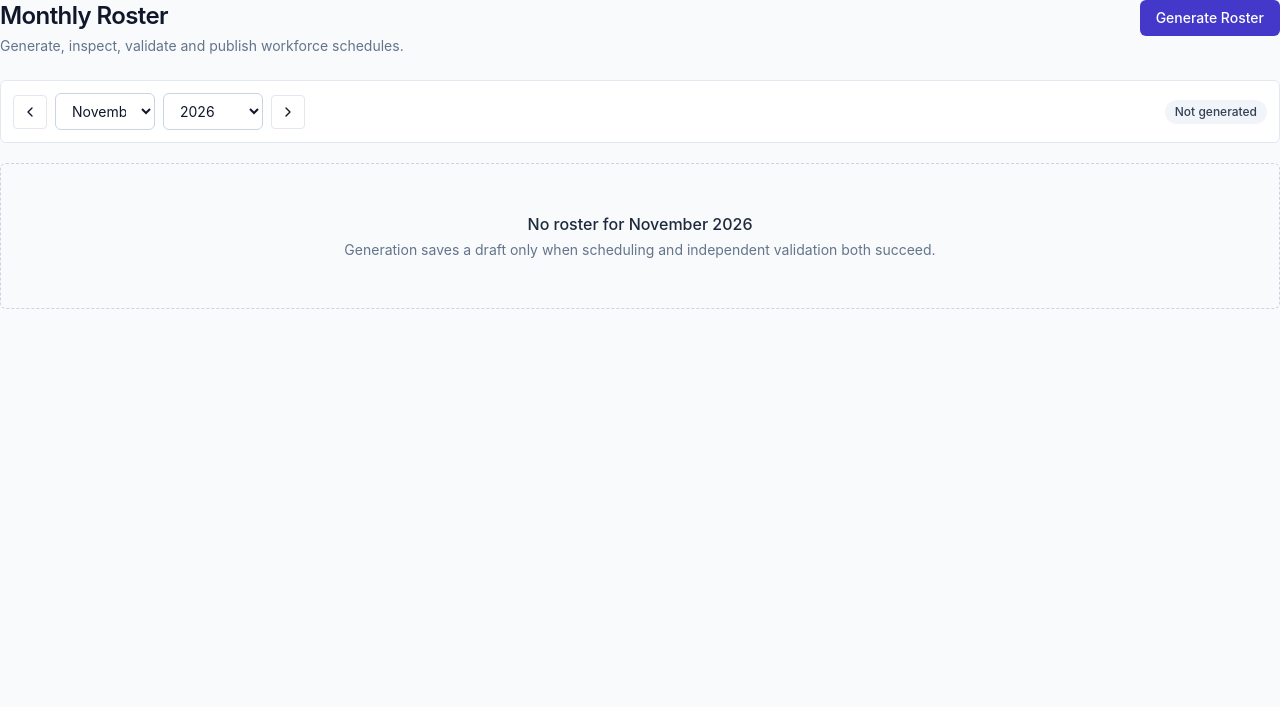
Test: Task 9 monthly roster › confirms safe regeneration and keeps the previous roster visible when generation fails
Select "December" in the dropdown named "Roster month": (105, 112) [55, 93, 155, 130]
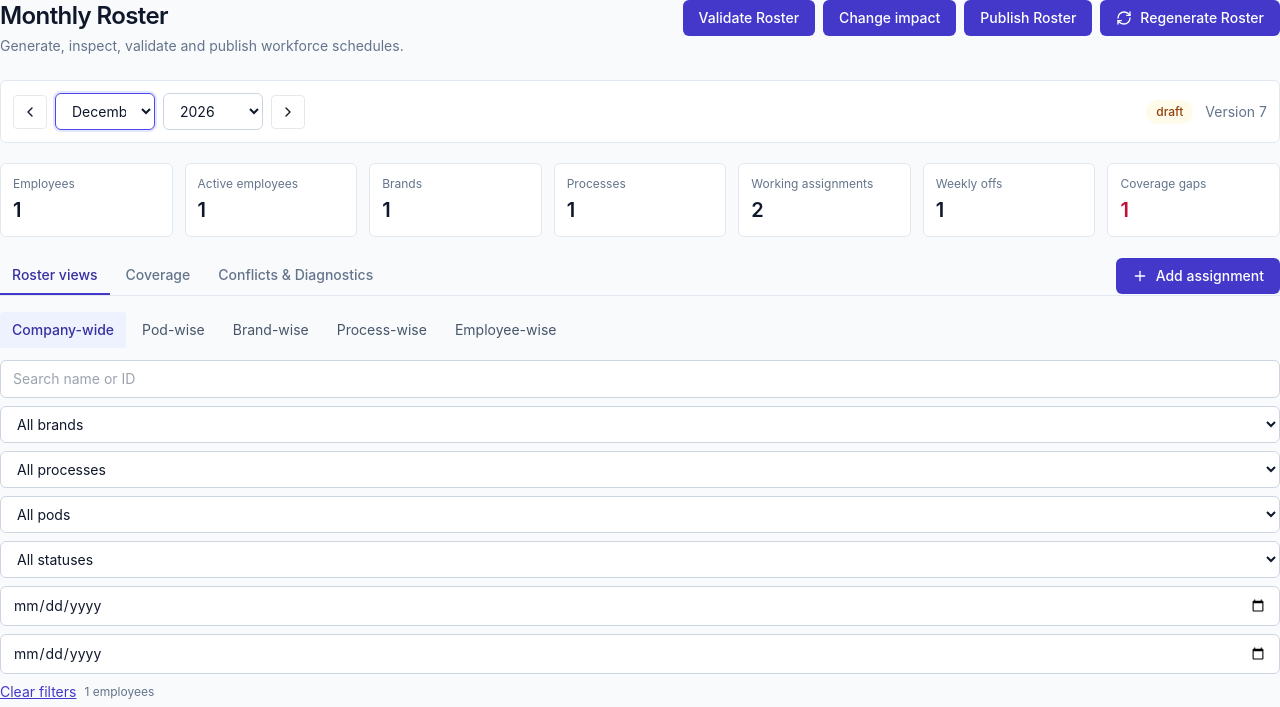
Click the button "Regenerate Roster": (1190, 18) [1100, 0, 1279, 36]
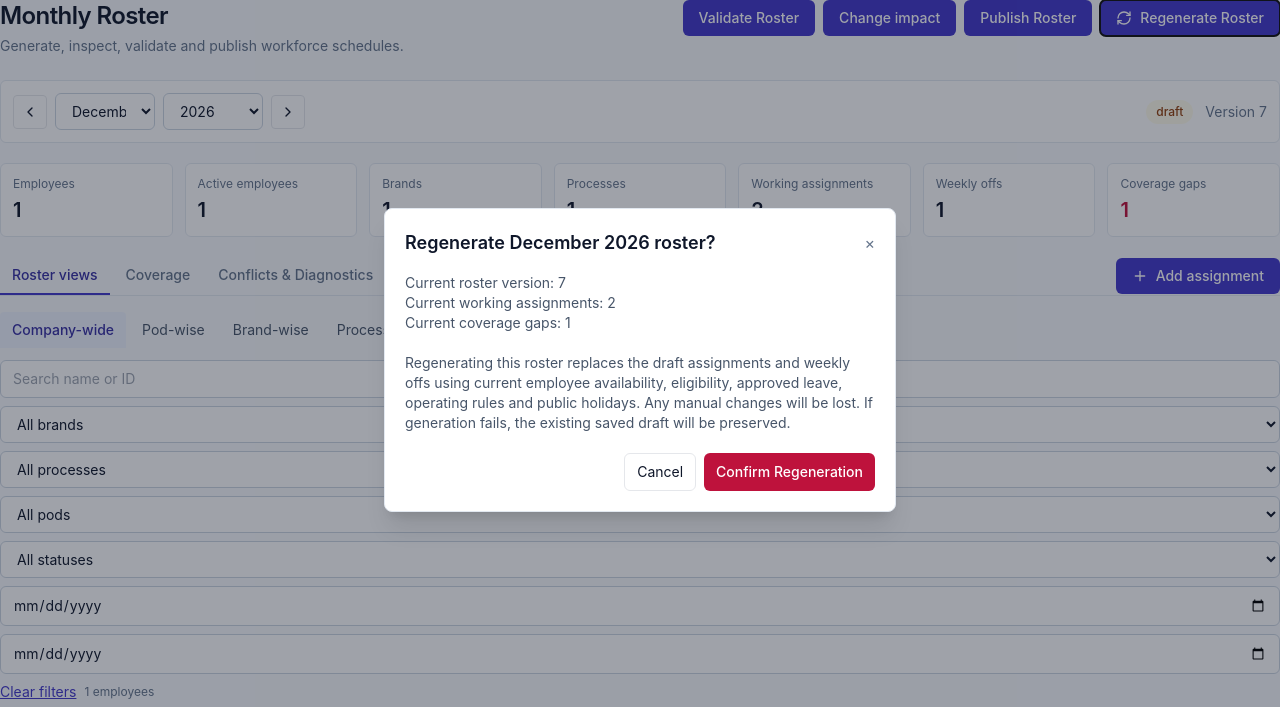
Now the dialog "Regenerate December 2026 roster?" is shown, box [384, 208, 896, 512]
Now the text "Current roster version: 7" is shown, box [405, 274, 873, 431]
Click the button "Cancel": (660, 472) [624, 453, 696, 491]
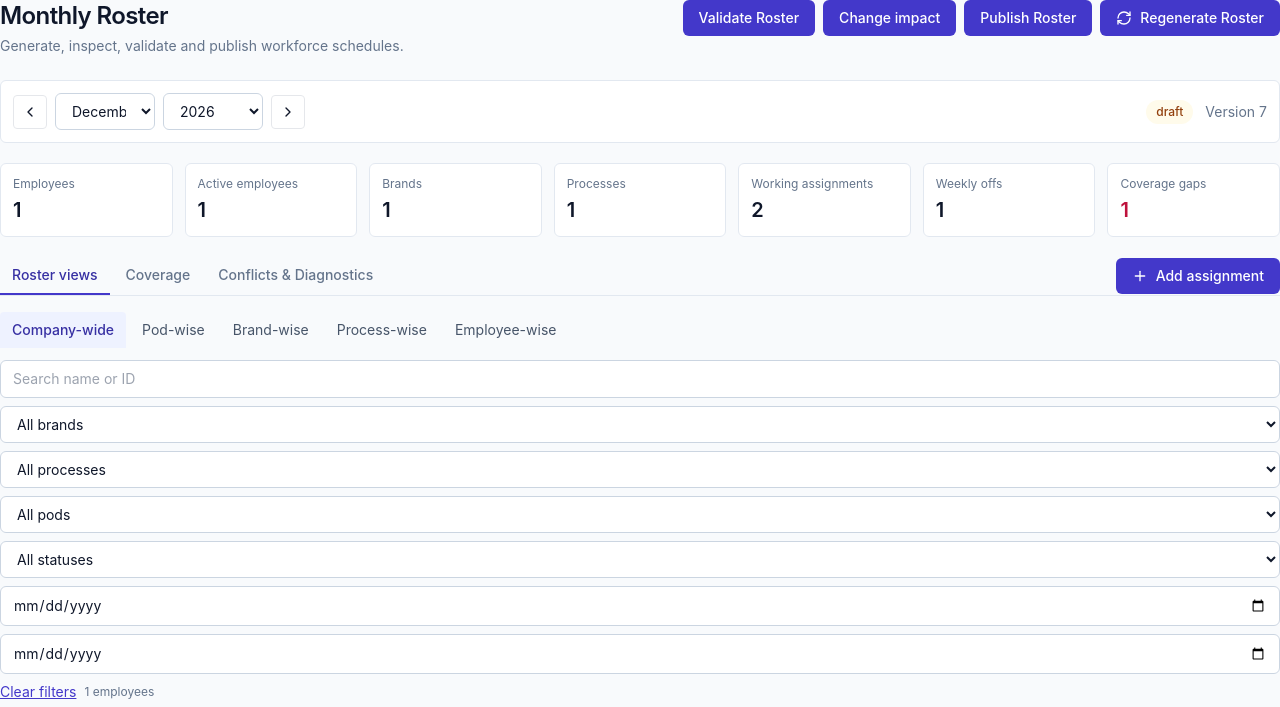
Click the button "Regenerate Roster": (1190, 18) [1100, 0, 1279, 36]
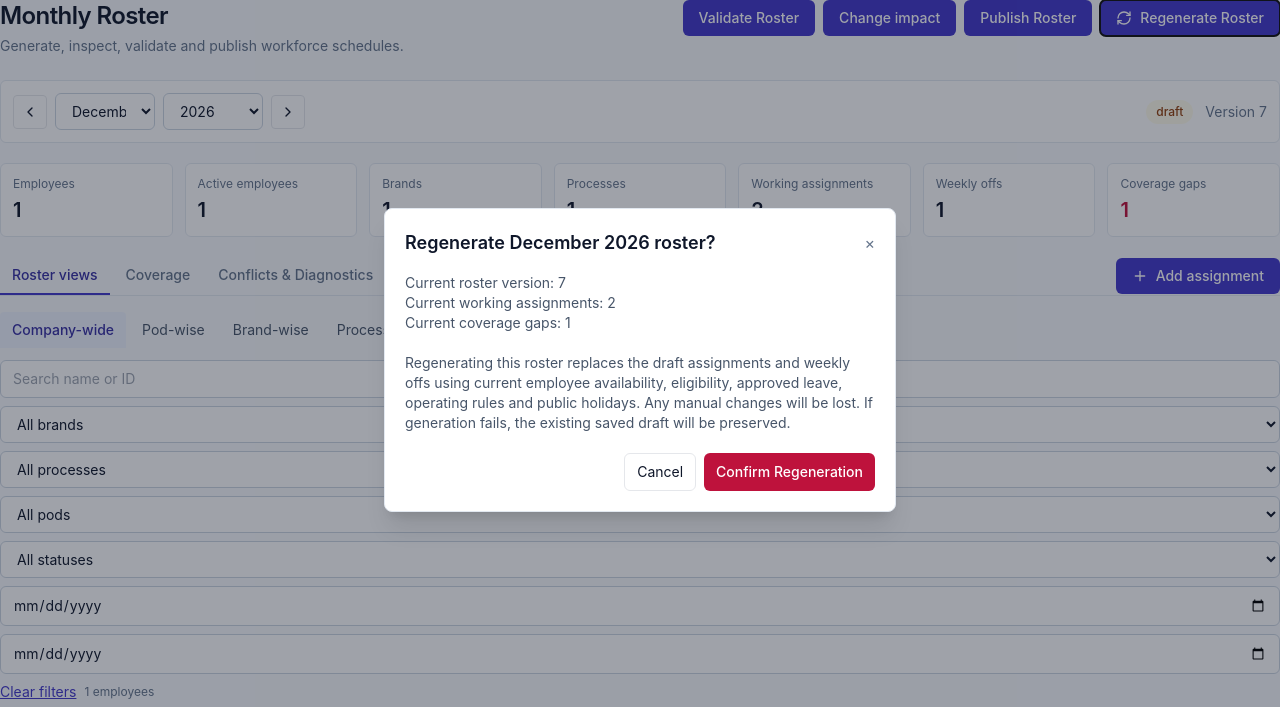
Click the button "Confirm Regeneration": (790, 472) [704, 453, 875, 491]
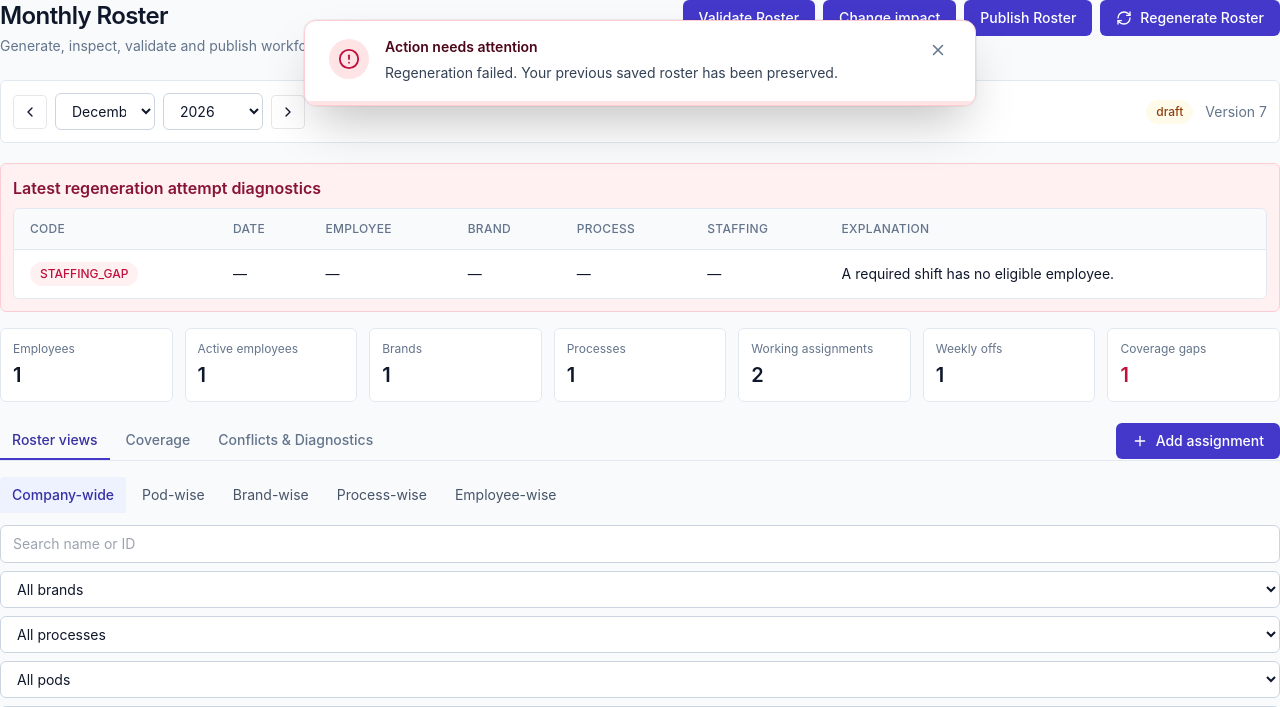
Now the text "Regeneration failed. Your previous saved roster has been preserved." is shown, box [385, 61, 909, 85]
Now the text "A required shift has no eligible employee." is shown, box [826, 250, 1266, 298]
